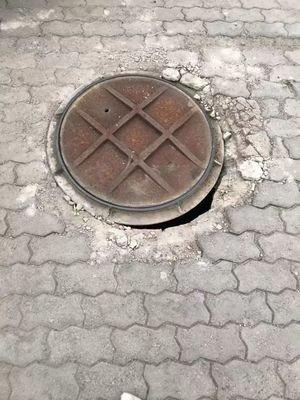wellcover: (29, 64, 240, 243)
